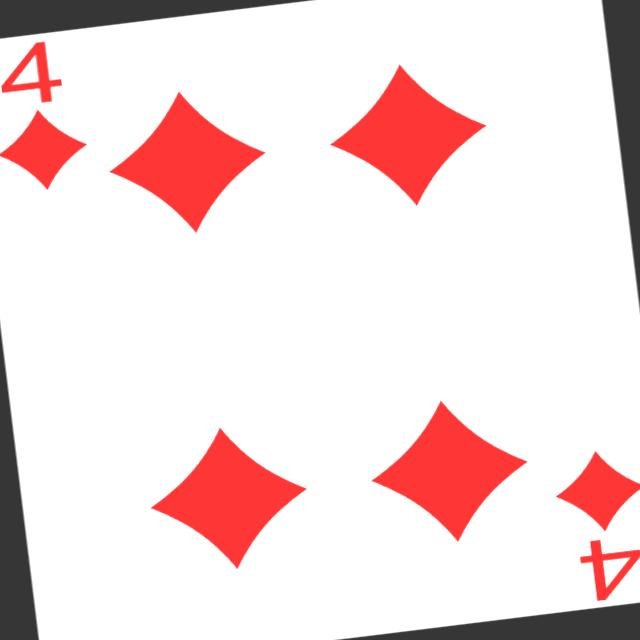Diamond: (361, 390, 538, 552), (98, 80, 274, 242), (140, 417, 316, 578), (320, 54, 495, 215), (0, 102, 92, 195), (548, 444, 640, 537)
